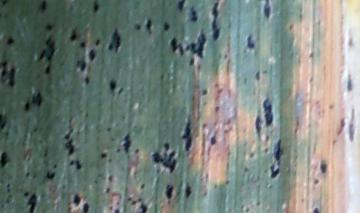tarspot: (150, 140, 179, 172), (185, 29, 208, 57), (180, 116, 196, 155), (34, 36, 58, 62), (1, 56, 19, 89), (210, 1, 222, 43), (263, 96, 276, 127), (168, 34, 184, 58), (108, 29, 123, 51), (25, 190, 39, 213), (258, 1, 272, 23), (121, 131, 133, 155), (272, 137, 283, 162), (254, 115, 264, 140), (163, 183, 176, 202), (245, 32, 258, 51), (63, 139, 77, 156), (268, 163, 282, 179), (1, 150, 12, 170), (182, 183, 194, 201), (68, 22, 78, 43), (206, 133, 219, 149), (318, 159, 330, 176), (33, 90, 44, 108), (41, 64, 56, 77), (70, 190, 82, 206), (43, 20, 56, 34), (137, 200, 151, 213), (198, 86, 211, 100), (86, 46, 97, 62), (36, 1, 52, 12), (144, 16, 153, 35), (44, 169, 57, 182), (107, 77, 117, 93), (74, 157, 84, 173), (98, 148, 110, 161), (160, 20, 172, 33), (90, 1, 101, 15), (176, 1, 188, 13), (4, 33, 14, 47), (21, 100, 32, 112), (77, 39, 87, 52), (82, 201, 92, 213), (82, 75, 91, 87), (187, 55, 195, 68), (107, 173, 115, 184)
